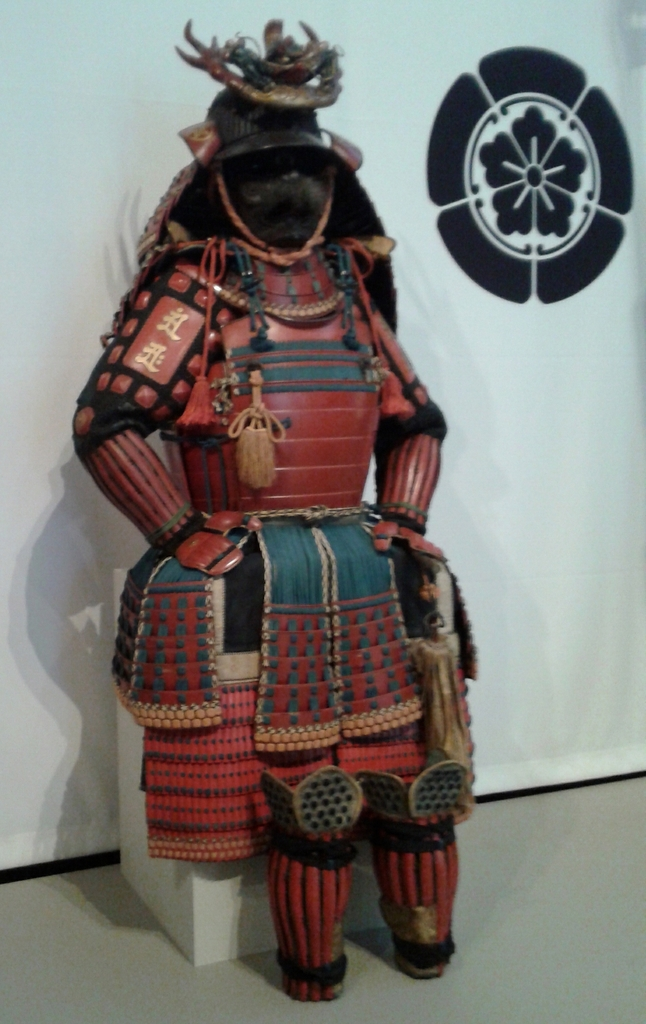Person: (70, 18, 479, 1002)
